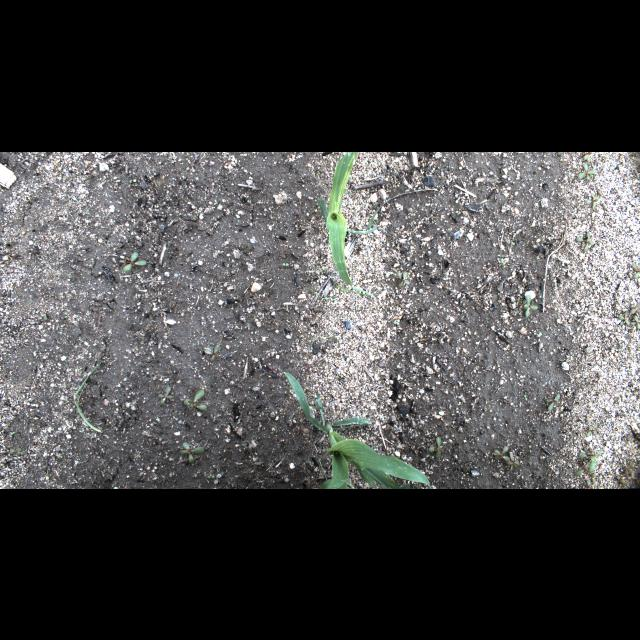crop: (281, 372, 431, 488), (316, 151, 438, 293)
weed: (74, 338, 106, 432), (334, 272, 382, 296), (516, 293, 538, 317), (120, 252, 146, 272), (183, 390, 207, 410), (180, 442, 204, 462), (303, 287, 343, 299), (575, 230, 595, 252), (428, 436, 444, 459), (544, 390, 560, 410), (574, 462, 596, 476), (204, 344, 220, 362), (579, 450, 601, 462), (300, 262, 326, 272), (158, 386, 172, 404), (578, 164, 596, 178), (507, 452, 519, 472), (396, 270, 409, 288), (320, 332, 336, 346), (494, 446, 508, 460), (618, 310, 630, 326), (586, 193, 598, 209), (586, 424, 598, 436), (630, 302, 640, 316), (630, 315, 640, 329), (631, 263, 639, 279), (582, 151, 594, 161), (584, 479, 596, 488), (10, 448, 26, 454), (68, 171, 76, 181), (101, 348, 109, 356), (500, 258, 506, 268), (580, 384, 594, 388), (268, 366, 276, 372), (568, 418, 576, 424), (280, 262, 290, 266), (524, 394, 528, 401), (10, 431, 16, 435), (308, 338, 314, 342), (59, 452, 62, 458), (208, 476, 216, 478), (558, 152, 564, 154)
